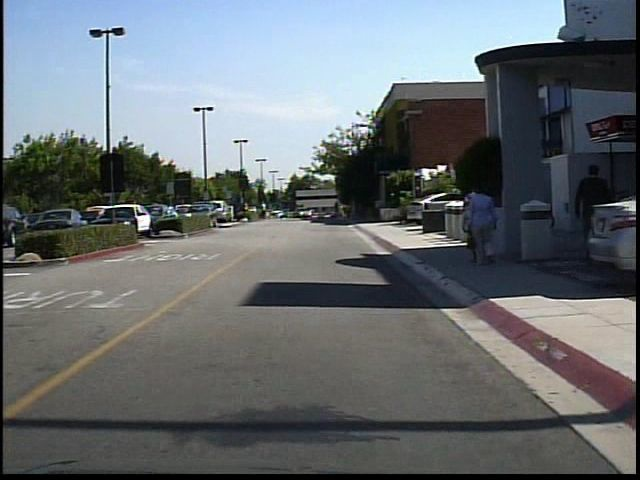person: (569, 158, 617, 261), (467, 182, 499, 267), (463, 186, 485, 266), (338, 200, 351, 225), (262, 198, 273, 222)
